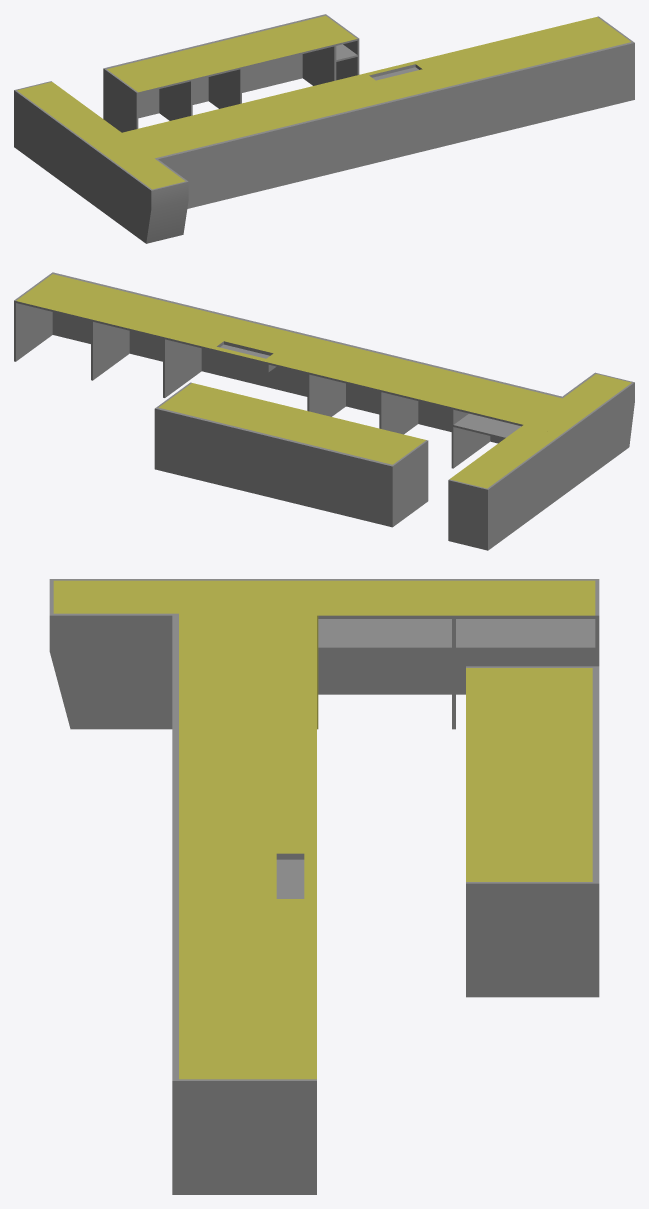
File: Table_Counter_high.fbx
The picture shows the model from 3 angles, top to bottom: view 1: azimuth 30°, elevation 25°; view 2: azimuth 150°, elevation 25°; view 3: azimuth 270°, elevation 25°; orthographic projection. The views are drawn at different scales.
Parts seen in each view (by area): view 1: Table_Counter_high; view 2: Table_Counter_high; view 3: Table_Counter_high.
Part boxes in pixels (box(x1,y1,x2,y2)): Table_Counter_high: box(14, 14, 634, 243); Table_Counter_high: box(14, 272, 634, 550); Table_Counter_high: box(49, 579, 599, 1194).
Size of the model in its own units: 888 by 93.95 by 411.
